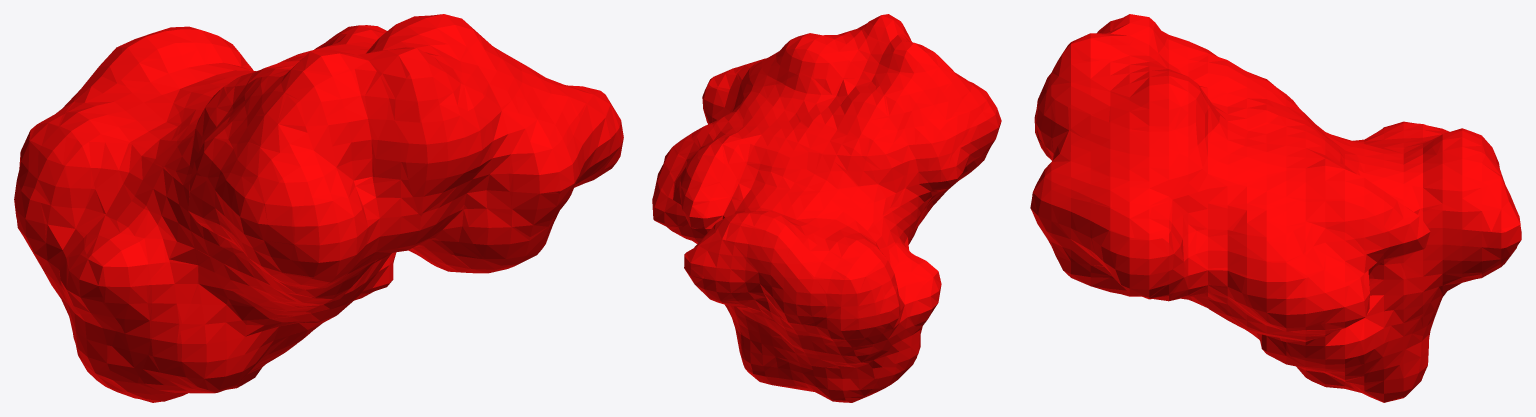
Rendered from Immunity_related_GTPase_family_coarse.dae.
The picture shows the model from 3 angles, left to right: view 1: azimuth 30°, elevation 25°; view 2: azimuth 150°, elevation 25°; view 3: azimuth 270°, elevation 25°; orthographic projection. The views are drawn at different scales.
Visible parts, largest first — view 1: Immunity_related_GTPase_family; view 2: Immunity_related_GTPase_family; view 3: Immunity_related_GTPase_family.
Part boxes in pixels (bbox=[...]): Immunity_related_GTPase_family: bbox=[14, 14, 623, 402]; Immunity_related_GTPase_family: bbox=[652, 14, 1001, 402]; Immunity_related_GTPase_family: bbox=[1030, 14, 1521, 402].
Size of the model in its own units: 65.04 by 60.05 by 72.19.
